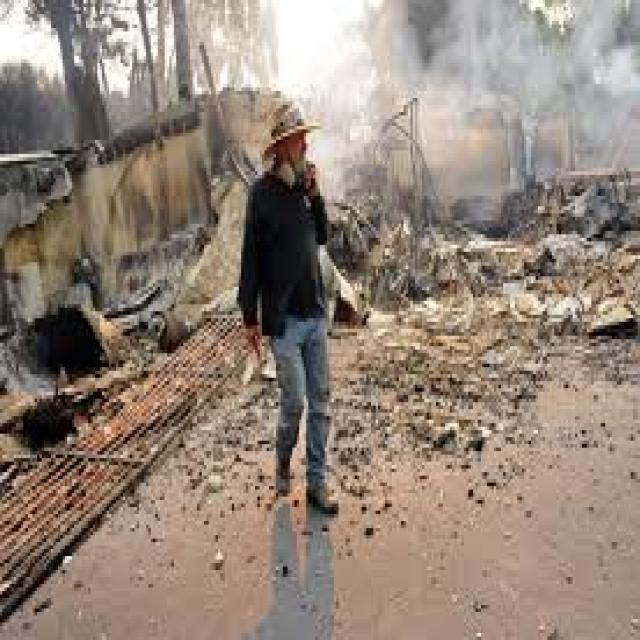Smoke: (190, 1, 640, 166)
